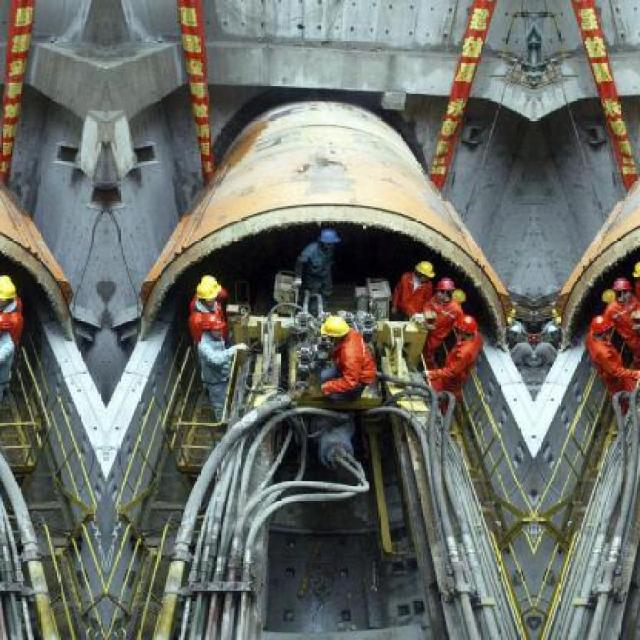helmet: (313, 310, 352, 348), (192, 310, 230, 342), (446, 312, 483, 343), (582, 312, 618, 343), (192, 271, 220, 304), (312, 227, 343, 253), (411, 257, 438, 281), (0, 270, 18, 304), (0, 310, 18, 343), (612, 272, 631, 303), (434, 272, 452, 303), (626, 257, 639, 283)
